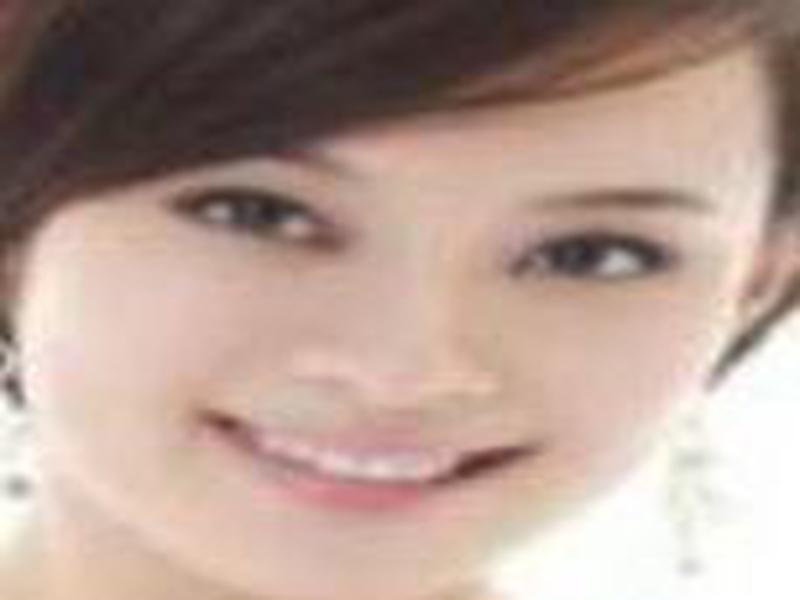without_mask: (25, 42, 763, 599)
